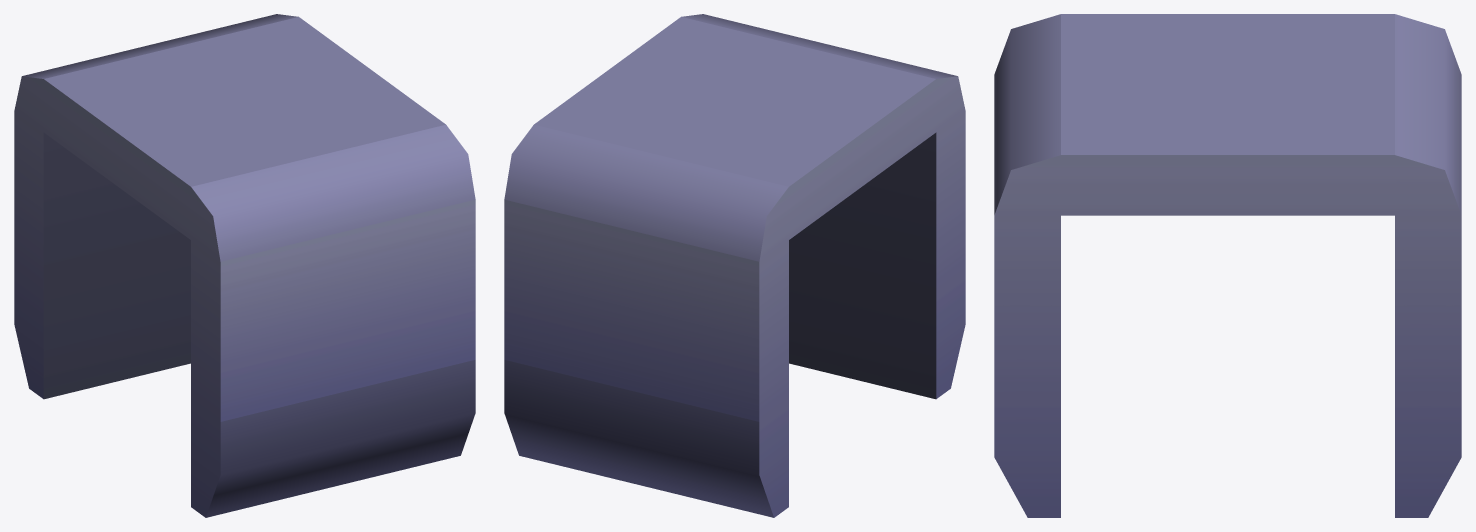
Rendered from kenney-conveyor-cover.glb.
3 renders of one model, left to right at view 1: azimuth 30°, elevation 25°; view 2: azimuth 150°, elevation 25°; view 3: azimuth 270°, elevation 25°, orthographic. The views are drawn at different scales.
Parts seen in each view (by area): view 1: cover; view 2: cover; view 3: cover.
Part boxes in pixels (bbox=[...]): cover: bbox=[14, 14, 475, 517]; cover: bbox=[504, 14, 965, 517]; cover: bbox=[994, 14, 1461, 517].
Bounding box in the file's own units: 1 × 1.2 × 1.4.
1 material, 1 textured.
